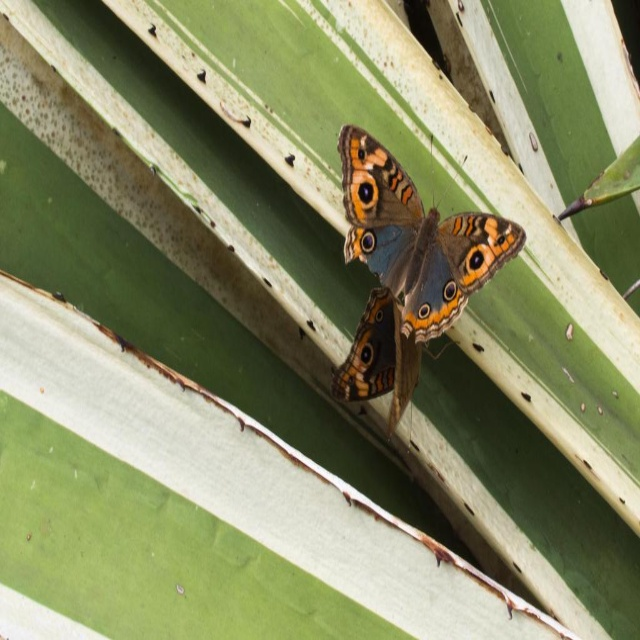Butterfly: (332, 124, 527, 442)
